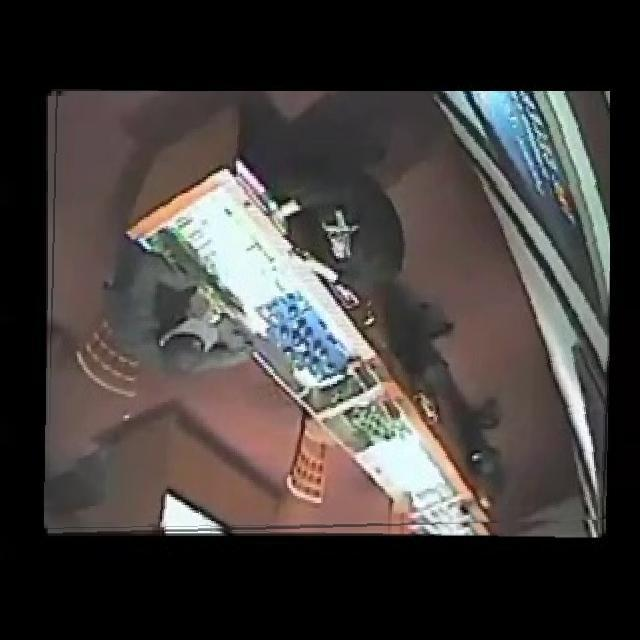Normal: (46, 91, 610, 536)
